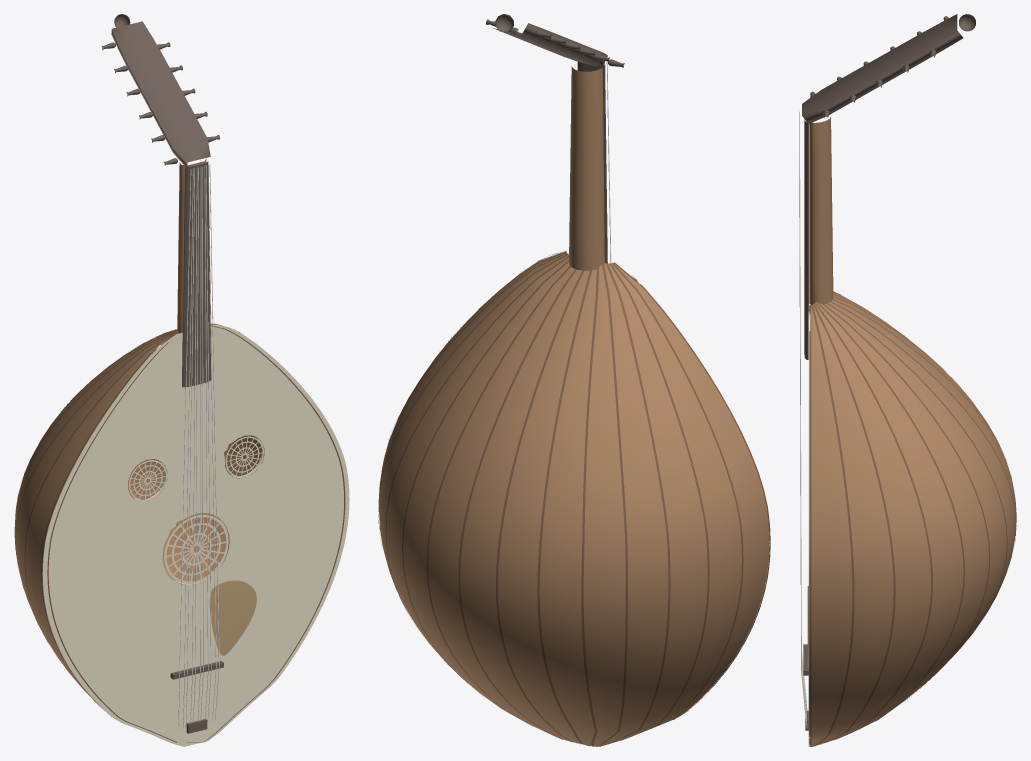
Rendered from oud.glb.
The picture shows the model from 3 angles, left to right: view 1: azimuth 30°, elevation 25°; view 2: azimuth 150°, elevation 25°; view 3: azimuth 270°, elevation 25°; orthographic projection. The views are drawn at different scales.
Parts seen in each view (by area): view 1: soundboard, bowl, fingerboard, pegbox, bowl-inner, rosettes, pickguard, seams, purfling, neck, pegs, string-tails (+11 smaller); view 2: bowl, seams, neck, pegbox, fingerboard, pegs; view 3: bowl, seams, pegbox, neck, fingerboard, soundboard, part-string-11.
Boxes of the visible parts, left/top/right/bottom form: soundboard: left=42, top=324, right=349, bottom=746; bowl: left=14, top=329, right=235, bottom=709; fingerboard: left=182, top=161, right=211, bottom=387; pegbox: left=111, top=21, right=210, bottom=166; bowl-inner: left=128, top=323, right=264, bottom=585; rosettes: left=129, top=436, right=263, bottom=583; pickguard: left=209, top=580, right=256, bottom=655; seams: left=15, top=323, right=240, bottom=717; purfling: left=47, top=326, right=345, bottom=742; neck: left=177, top=159, right=206, bottom=333; pegs: left=101, top=42, right=219, bottom=165; string-tails: left=178, top=667, right=219, bottom=729; bowl: left=379, top=251, right=769, bottom=746; seams: left=378, top=251, right=770, bottom=746; neck: left=569, top=66, right=604, bottom=270; pegbox: left=493, top=23, right=607, bottom=67; fingerboard: left=577, top=62, right=607, bottom=263; pegs: left=486, top=19, right=624, bottom=67; bowl: left=810, top=291, right=1016, bottom=746; seams: left=809, top=292, right=1016, bottom=746; pegbox: left=802, top=14, right=963, bottom=123; neck: left=809, top=117, right=833, bottom=304; fingerboard: left=804, top=119, right=808, bottom=359; soundboard: left=808, top=305, right=810, bottom=746; part-string-11: left=799, top=121, right=801, bottom=670.
Size of the model in its own units: 0.4773 by 1 by 0.272.
